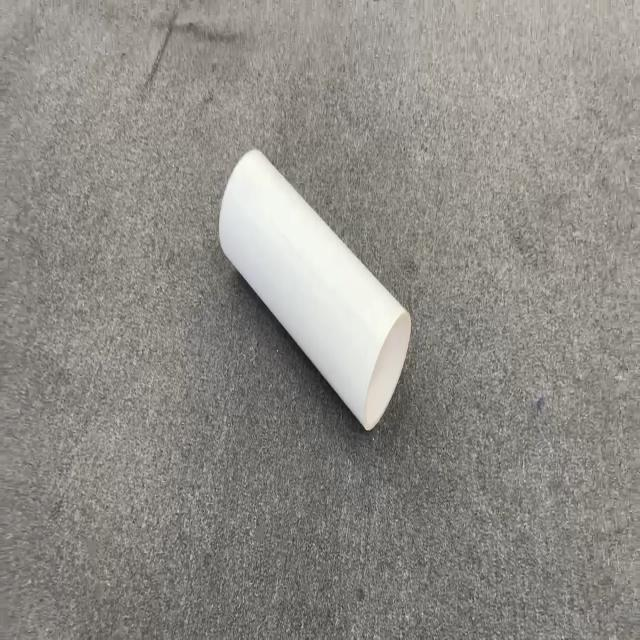coral: (218, 146, 412, 432)
